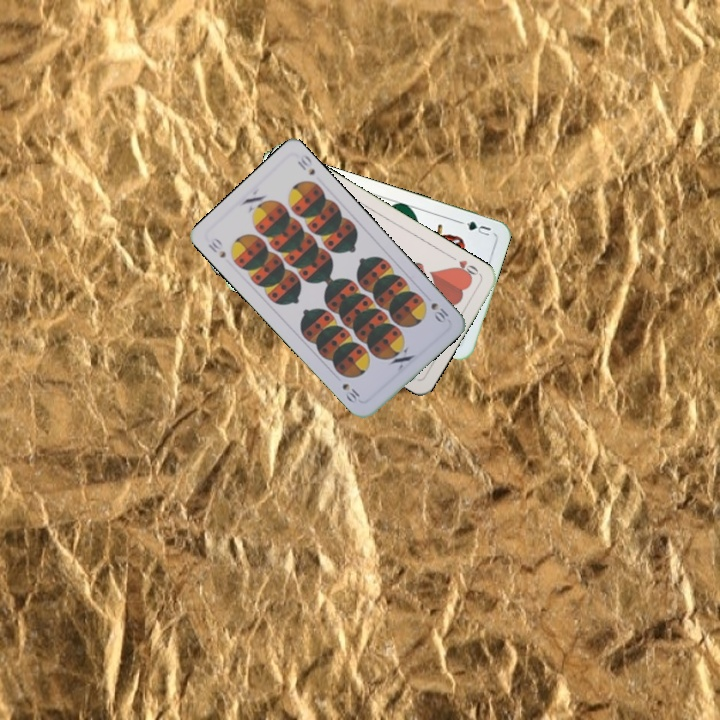GU: (462, 217, 493, 239)
HO: (446, 252, 483, 281)
S10: (204, 234, 229, 261), (427, 298, 451, 325)
